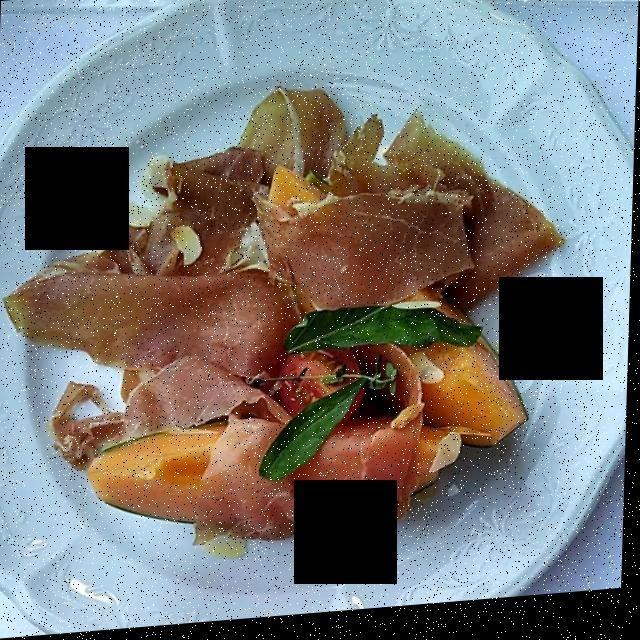ham: (0, 89, 565, 551)
tomato: (278, 356, 359, 419)
